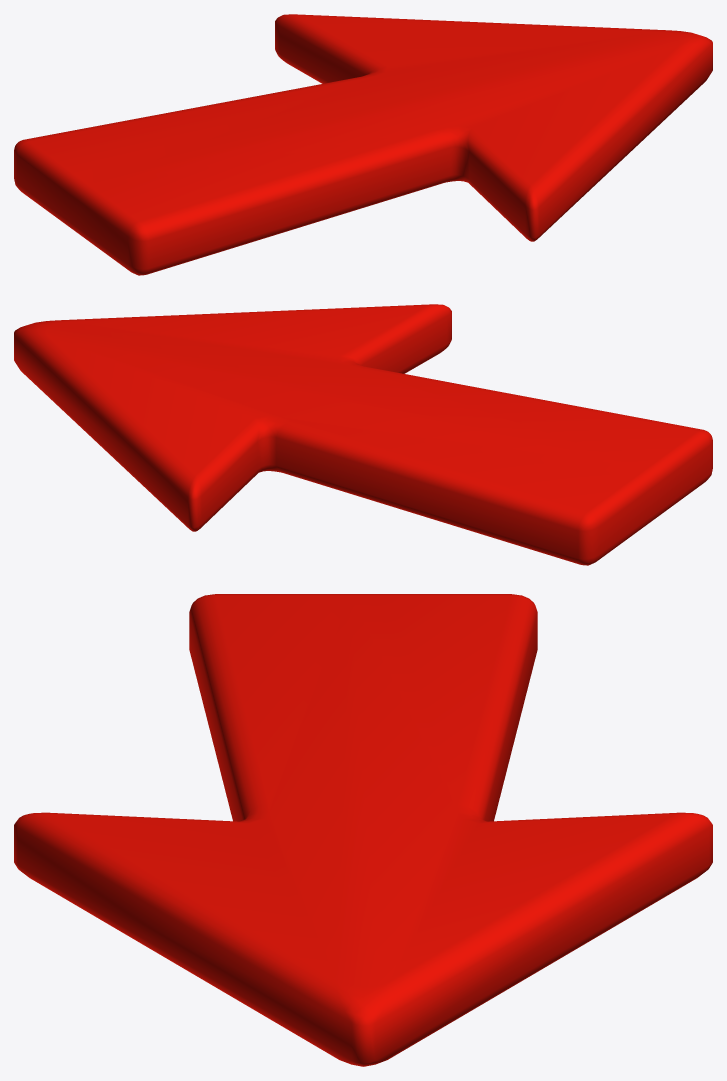
File: arrow.fbx
3 views of the same model, one above another, from view 1: azimuth 30°, elevation 25°; view 2: azimuth 150°, elevation 25°; view 3: azimuth 270°, elevation 25° (orthographic). The views are drawn at different scales.
Visible parts, largest first — view 1: Arrow; view 2: Arrow; view 3: Arrow.
Boxes of the visible parts, x1,y1,x2,y2 form: Arrow: (14, 14, 712, 275); Arrow: (14, 304, 712, 565); Arrow: (14, 594, 712, 1066).
Bounding box in the file's own units: 301 × 23.43 × 211.
